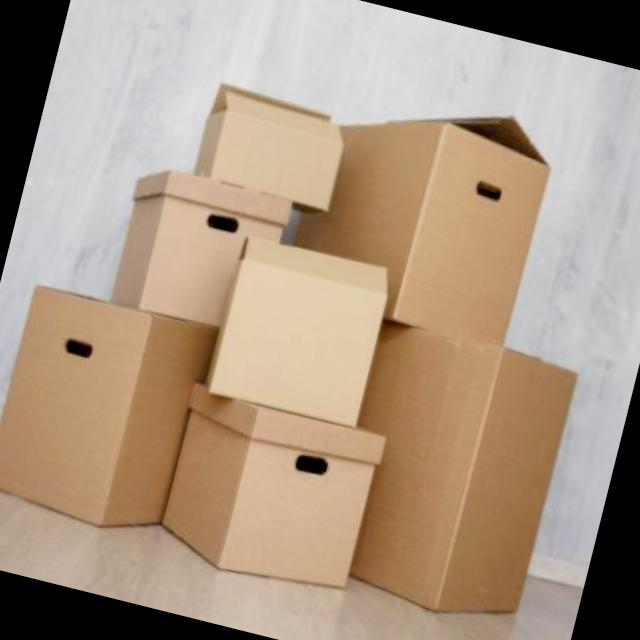box: (260, 50, 575, 389), (314, 307, 603, 640), (134, 376, 402, 632), (0, 271, 224, 562), (184, 228, 409, 459), (94, 151, 320, 363), (170, 74, 353, 222)
